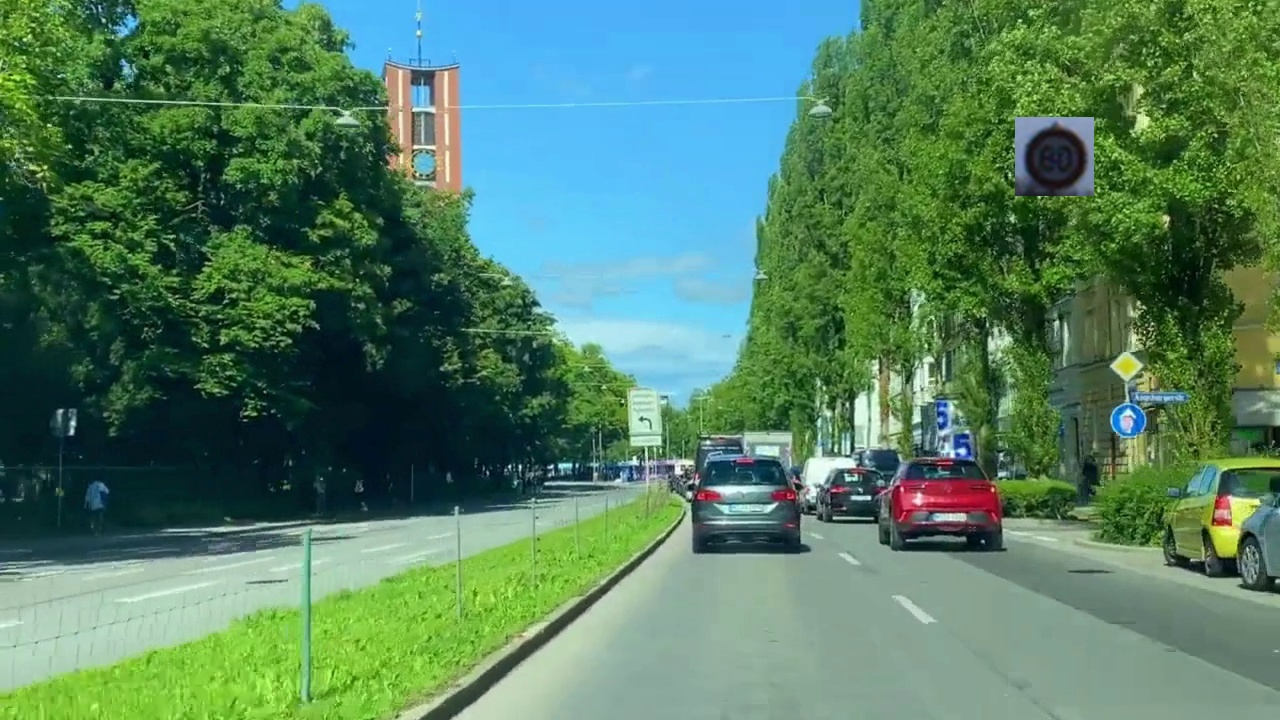Speed 80: (1015, 117, 1094, 196)
